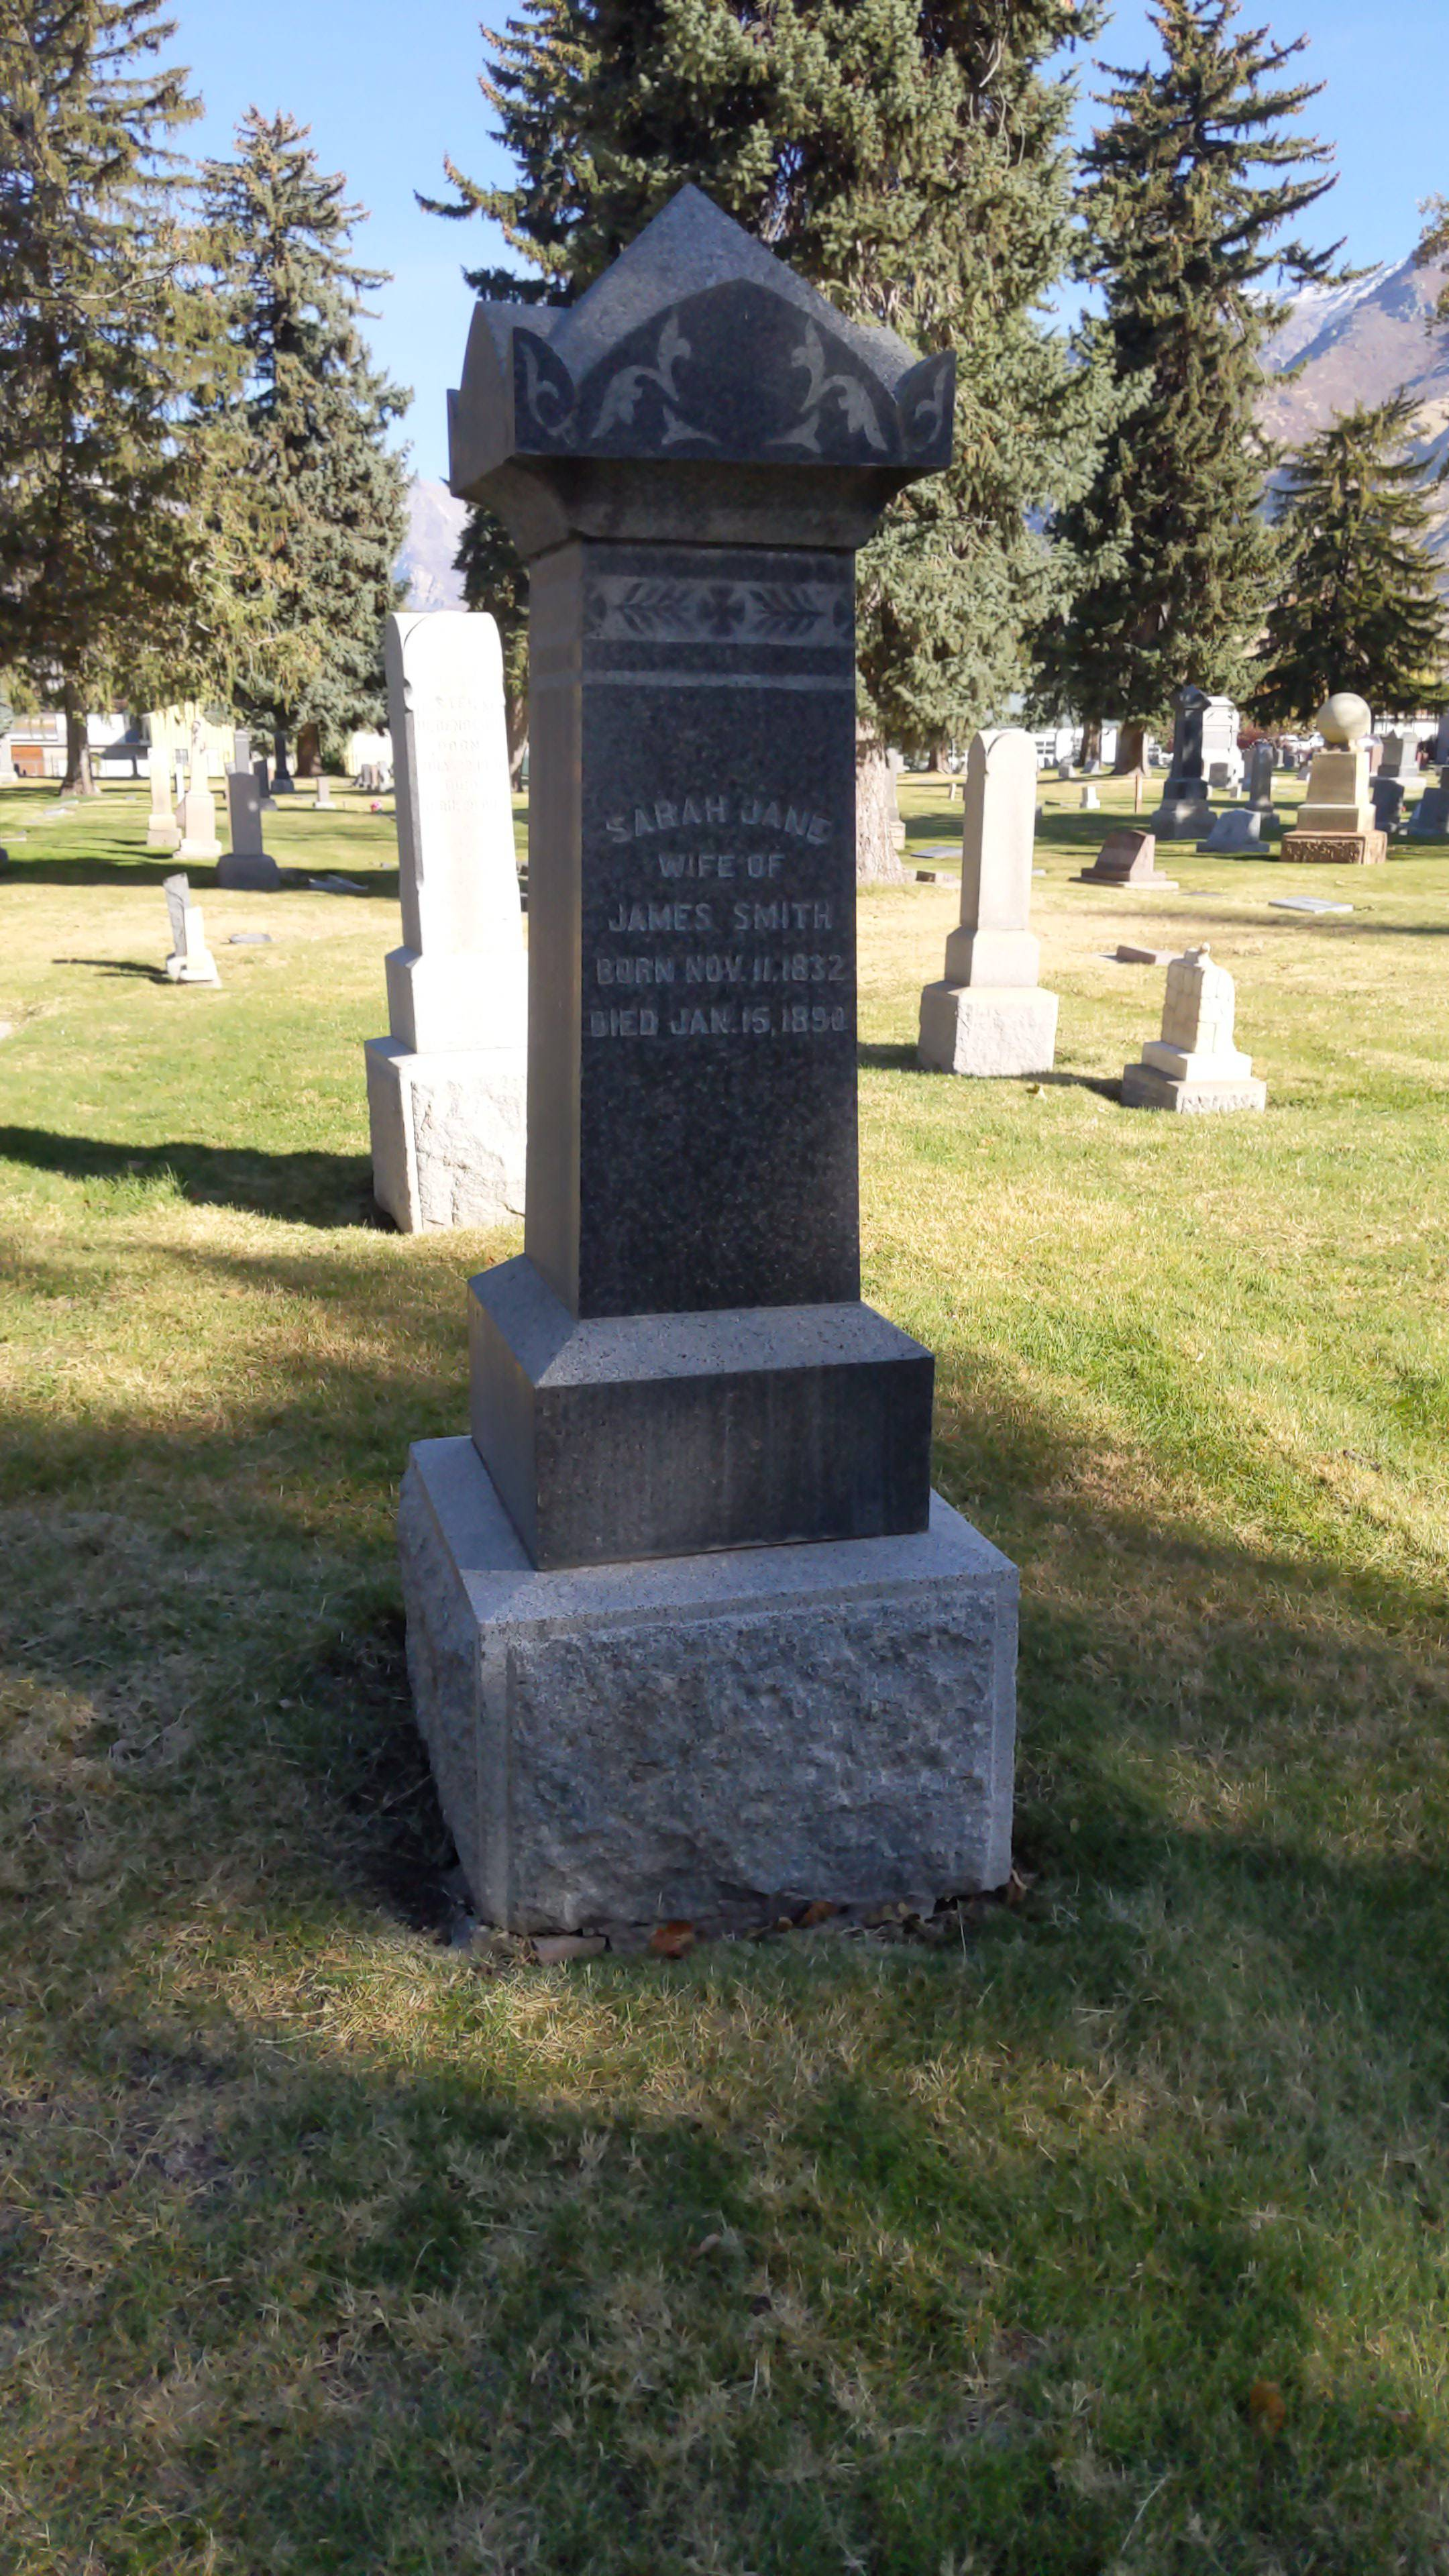obelisk: (467, 168, 932, 1555)
